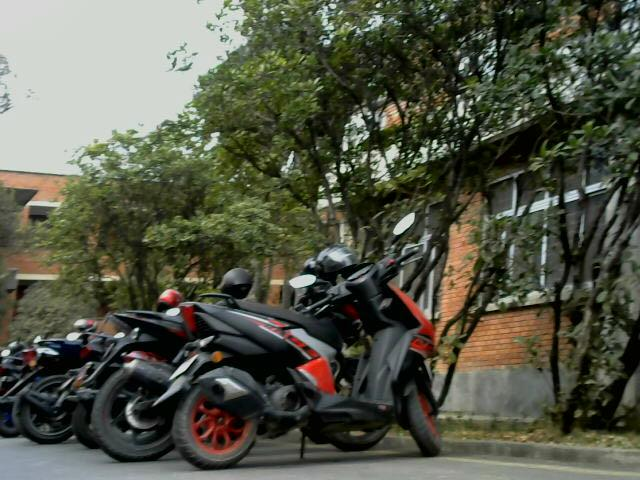Motorcycle: (180, 240, 474, 474), (95, 296, 186, 461), (19, 319, 93, 469)
Tree: (211, 5, 596, 200), (37, 149, 250, 290), (543, 229, 640, 427)
